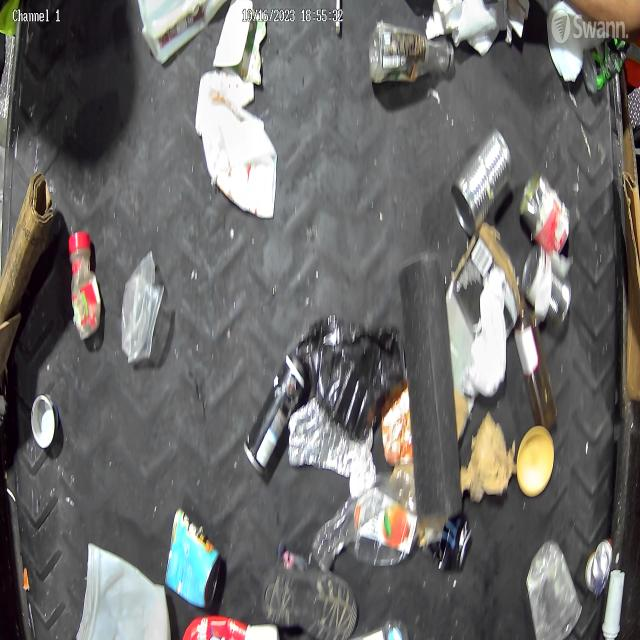can: (450, 126, 513, 236), (165, 508, 222, 606), (522, 244, 571, 328), (520, 169, 570, 251), (425, 514, 473, 569), (30, 391, 60, 448), (586, 538, 612, 594)
milk_jug: (76, 540, 172, 640)
plastic_bottle: (312, 472, 418, 574), (369, 22, 455, 83)
